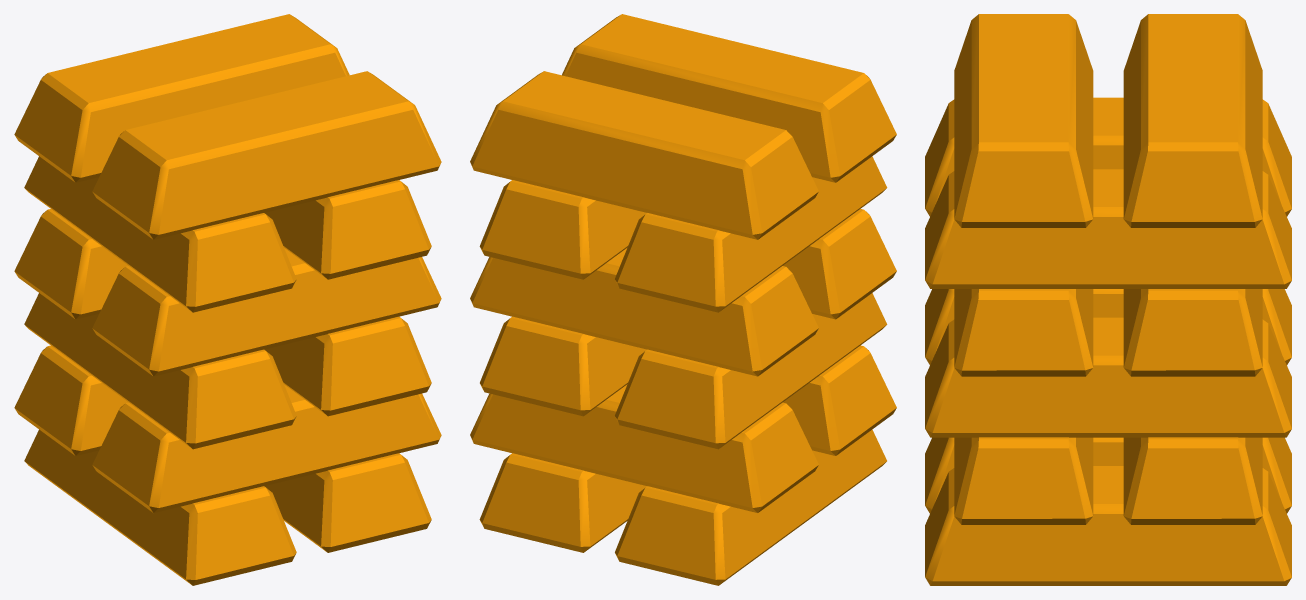
The model's file is SM_Gold_Bar_6_stack.fbx.
3 views of the same model, side by side, from view 1: azimuth 30°, elevation 25°; view 2: azimuth 150°, elevation 25°; view 3: azimuth 270°, elevation 25° (orthographic). The views are drawn at different scales.
Parts seen in each view (by area): view 1: Gold_Bar09, Gold_Bar12, Gold_Bar05, Gold_Bar01, Gold_Bar08, Gold_Bar04, Gold_Bar11, Gold_Bar07, Gold_Bar10, Gold_Bar03, Gold_Bar06, Gold_Bar02; view 2: Gold_Bar12, Gold_Bar09, Gold_Bar06, Gold_Bar02, Gold_Bar08, Gold_Bar11, Gold_Bar04, Gold_Bar10, Gold_Bar07, Gold_Bar03, Gold_Bar05, Gold_Bar01; view 3: Gold_Bar09, Gold_Bar12, Gold_Bar03, Gold_Bar07, Gold_Bar10, Gold_Bar01, Gold_Bar02, Gold_Bar05, Gold_Bar06, Gold_Bar11, Gold_Bar08, Gold_Bar04.
Boxes of the visible parts, x1,y1,x2,y2 form: Gold_Bar09: [92, 71, 441, 239]; Gold_Bar12: [14, 14, 349, 182]; Gold_Bar05: [92, 248, 441, 376]; Gold_Bar01: [92, 384, 441, 513]; Gold_Bar08: [24, 429, 296, 585]; Gold_Bar04: [24, 293, 296, 449]; Gold_Bar11: [24, 156, 296, 312]; Gold_Bar07: [264, 453, 431, 552]; Gold_Bar10: [264, 180, 431, 279]; Gold_Bar03: [264, 316, 431, 416]; Gold_Bar06: [14, 209, 128, 319]; Gold_Bar02: [14, 345, 128, 455]; Gold_Bar12: [470, 71, 818, 239]; Gold_Bar09: [562, 14, 896, 182]; Gold_Bar06: [470, 248, 818, 376]; Gold_Bar02: [470, 384, 818, 512]; Gold_Bar08: [615, 429, 886, 585]; Gold_Bar11: [614, 156, 887, 312]; Gold_Bar04: [615, 293, 887, 449]; Gold_Bar10: [479, 180, 646, 279]; Gold_Bar07: [479, 453, 646, 552]; Gold_Bar03: [480, 316, 646, 416]; Gold_Bar05: [783, 209, 896, 319]; Gold_Bar01: [783, 345, 896, 455]; Gold_Bar09: [954, 14, 1093, 227]; Gold_Bar12: [1123, 14, 1262, 227]; Gold_Bar03: [925, 317, 1291, 437]; Gold_Bar07: [925, 466, 1291, 585]; Gold_Bar10: [925, 169, 1291, 288]; Gold_Bar01: [954, 437, 1093, 524]; Gold_Bar02: [1123, 437, 1262, 524]; Gold_Bar05: [954, 289, 1093, 376]; Gold_Bar06: [1123, 289, 1262, 376]; Gold_Bar11: [925, 97, 1291, 216]; Gold_Bar08: [925, 437, 1291, 513]; Gold_Bar04: [925, 289, 1291, 364].
Bounding box in the file's own units: 0.1983 × 0.2658 × 0.1983.
Materials: 1 (1 with a texture image).
